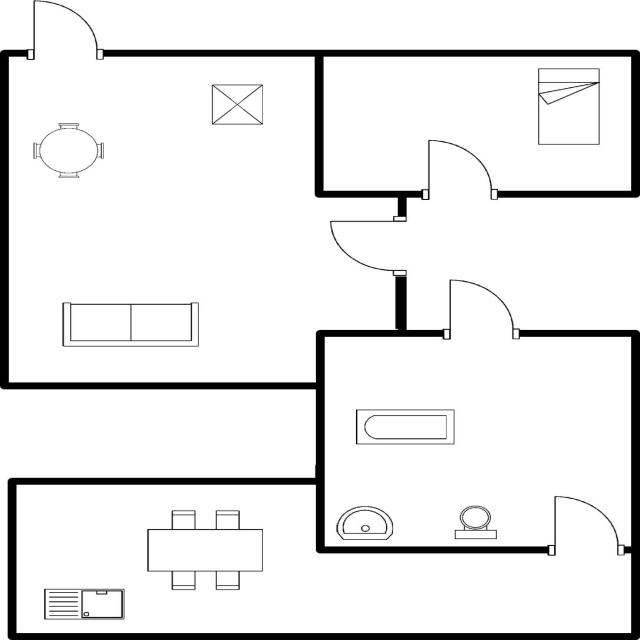bed: (531, 63, 606, 149)
coffee_table: (203, 78, 269, 128)
dining_table: (140, 504, 267, 595)
large_sink: (448, 501, 502, 542)
large_sofa: (53, 299, 204, 353)
round_table: (24, 117, 112, 184)
sink: (35, 584, 130, 624)
small_sink: (330, 499, 400, 543)
tub: (349, 406, 461, 451)
